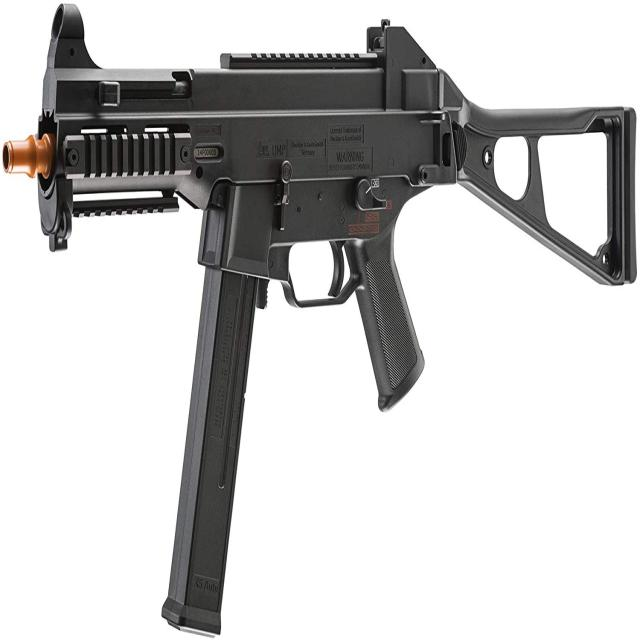SMG: (1, 6, 640, 636)
